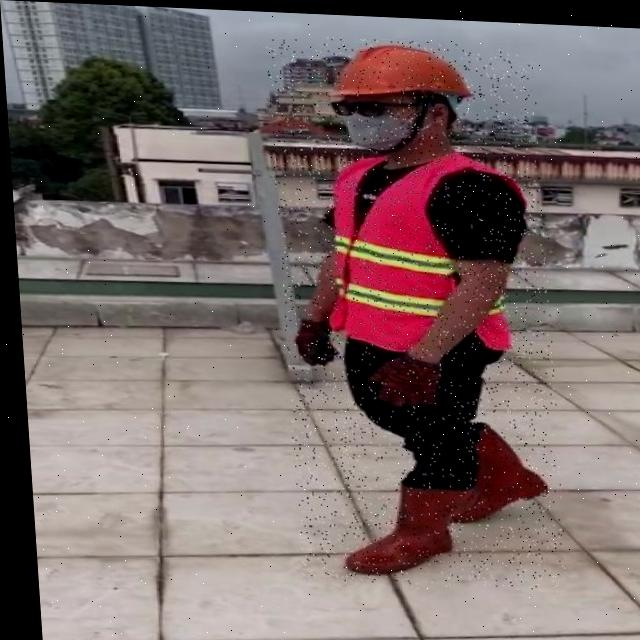Gloves: (360, 345, 439, 406), (288, 315, 333, 364)
Helmet: (323, 38, 475, 111)
Safety-Boot: (331, 474, 472, 575), (437, 415, 543, 522)
Safety-Vest: (312, 141, 532, 355)
